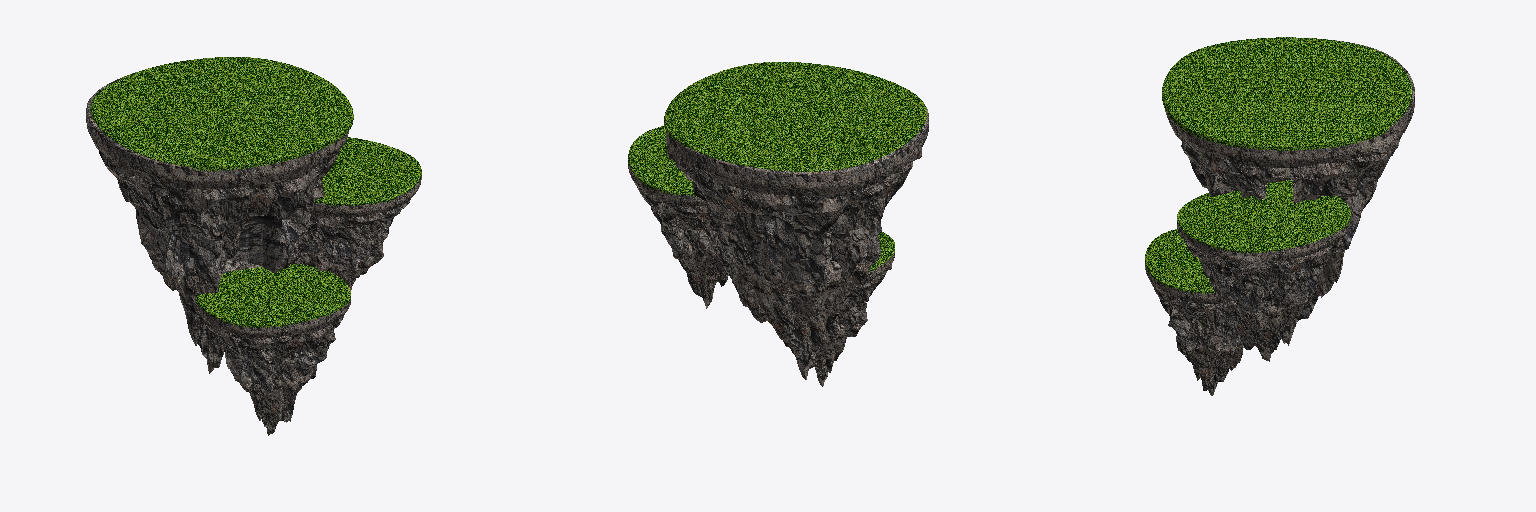
The picture shows the model from 3 angles: view 1: azimuth 30°, elevation 25°; view 2: azimuth 150°, elevation 25°; view 3: azimuth 270°, elevation 25°; orthographic projection.
Parts seen in each view (by area): view 1: object_1, object_0; view 2: object_1, object_0; view 3: object_0, object_1.
Part boxes in pixels (bbox=[...]): object_1: bbox=[86, 72, 421, 435]; object_0: bbox=[90, 57, 421, 327]; object_1: bbox=[628, 107, 928, 386]; object_0: bbox=[628, 62, 926, 272]; object_0: bbox=[1145, 37, 1412, 293]; object_1: bbox=[1145, 38, 1414, 395].
Size of the model in its own units: 61.2 by 61.12 by 49.6.
Materials: 2 (2 with a texture image).